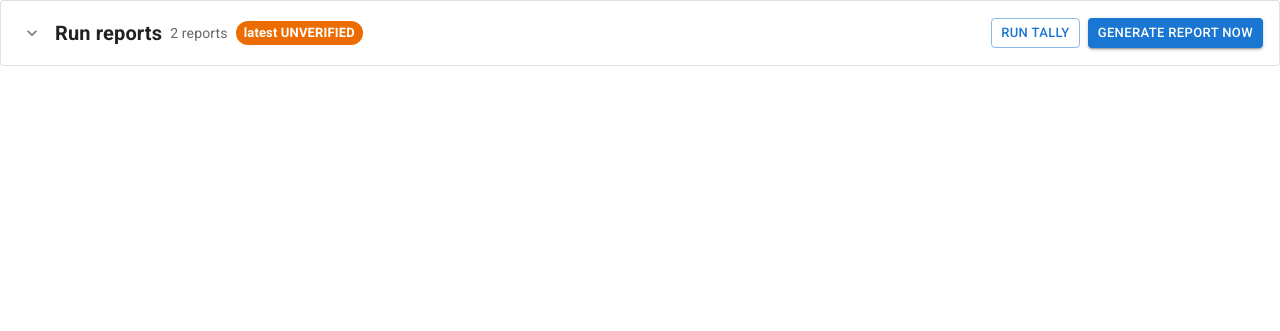
Scenario: RunReports › starts collapsed, still saying how many reports and the newest verdict, and opens
The width and height of the screenshot is (1280, 331).
expect the element with test id "reports-summary" shows "2 reports": met, box left=170, top=21, right=363, bottom=45
expect the element with test id "reports-summary" shows "latest UNVERIFIED": met, box left=244, top=25, right=355, bottom=40
Click the button with test id "reports-toggle" at point(32, 33), box left=17, top=18, right=47, bottom=48
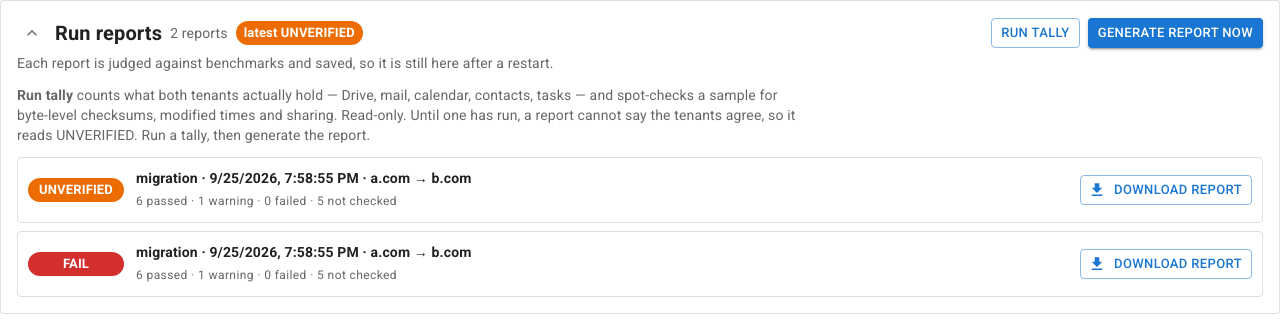
expect the element with test id "report-migration-20260925T195855Z" is shown: met, box left=17, top=157, right=1263, bottom=223
